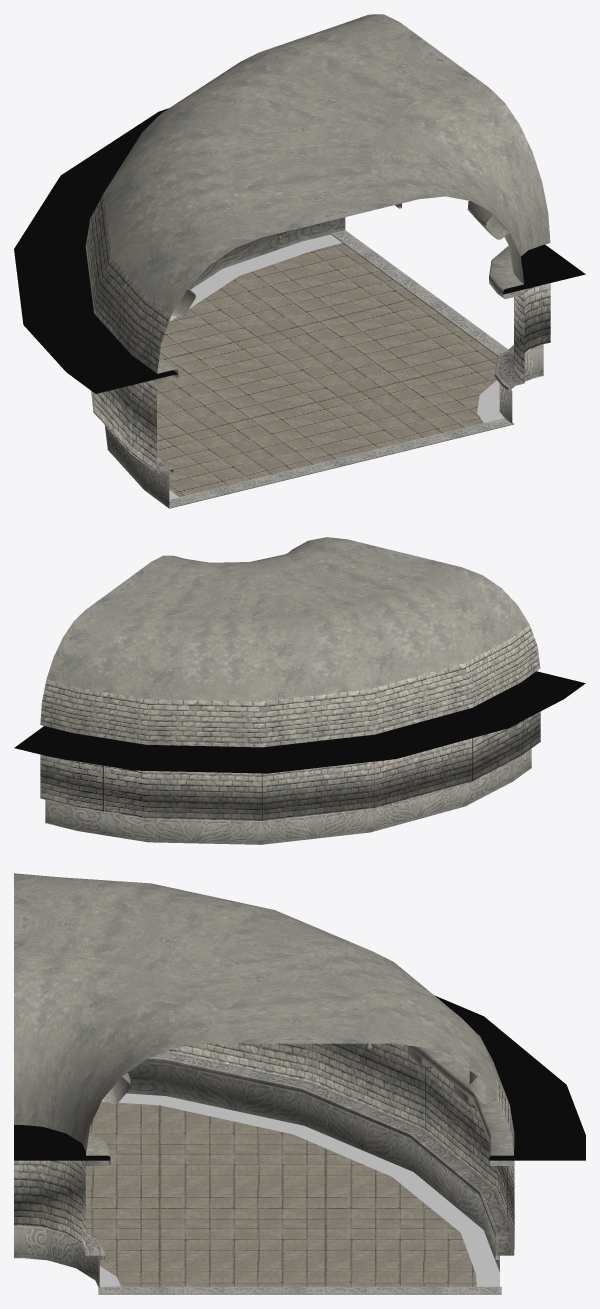
The model's file is dungeon_Tile_03_Additional.fbx.
3 renders of one model, top to bottom at view 1: azimuth 30°, elevation 25°; view 2: azimuth 150°, elevation 25°; view 3: azimuth 270°, elevation 25°, orthographic. The views are drawn at different scales.
Parts seen in each view (by area): view 1: dungeon_Tile_04_Wall_Additional1, dungeon_Tile_04_Roofl_Additional; view 2: dungeon_Tile_04_Roofl_Additional, dungeon_Tile_04_Wall_Additional1; view 3: dungeon_Tile_04_Wall_Additional1, dungeon_Tile_04_Roofl_Additional.
Boxes of the visible parts, <box> form: dungeon_Tile_04_Wall_Additional1: <box>14,108,585,508</box>; dungeon_Tile_04_Roofl_Additional: <box>85,14,550,373</box>; dungeon_Tile_04_Roofl_Additional: <box>40,537,540,747</box>; dungeon_Tile_04_Wall_Additional1: <box>14,671,585,844</box>; dungeon_Tile_04_Wall_Additional1: <box>14,995,585,1294</box>; dungeon_Tile_04_Roofl_Additional: <box>14,873,514,1156</box>.
Bounding box in the file's own units: 120 × 58.13 × 120.
